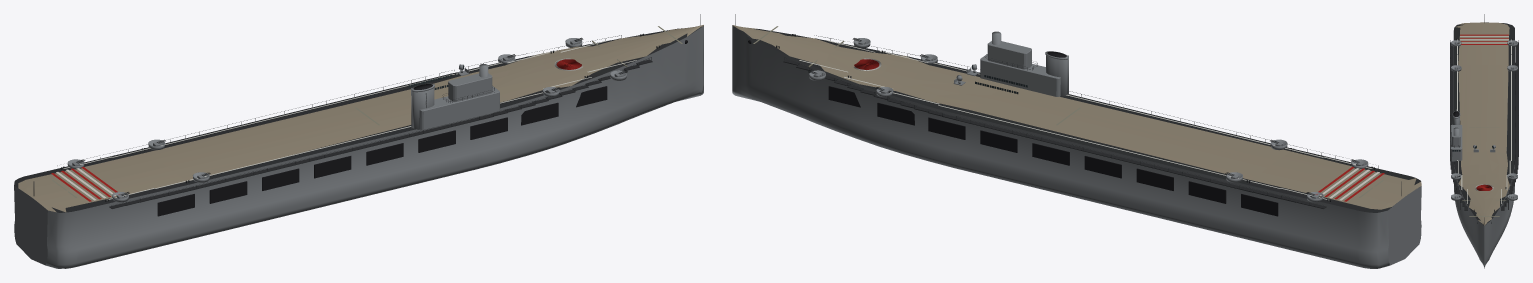
Rendered from junyo_lod.glb.
The picture shows the model from 3 angles, left to right: view 1: azimuth 30°, elevation 25°; view 2: azimuth 150°, elevation 25°; view 3: azimuth 270°, elevation 25°; orthographic projection. The views are drawn at different scales.
Visible parts, largest first — view 1: junyo_lod; view 2: junyo_lod; view 3: junyo_lod.
Boxes of the visible parts, <box> form: junyo_lod: <box>14,14,703,268</box>; junyo_lod: <box>732,14,1421,268</box>; junyo_lod: <box>1450,14,1518,268</box>.
Size of the model in its own units: 219 by 32.52 by 30.69.
